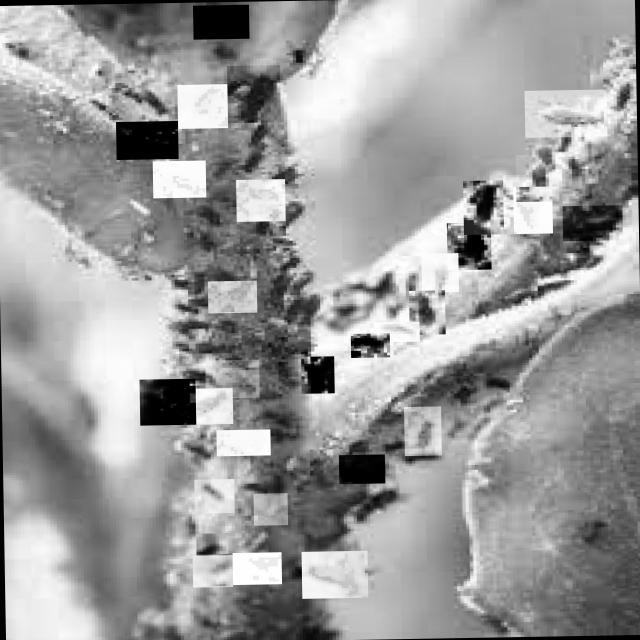aphid: (524, 89, 607, 137), (301, 550, 368, 598), (227, 64, 280, 122), (140, 378, 197, 425), (115, 120, 178, 160), (176, 84, 228, 128), (462, 180, 503, 234), (236, 178, 286, 222), (562, 204, 623, 240), (204, 359, 260, 398), (446, 222, 491, 270), (515, 154, 559, 202), (152, 160, 206, 198), (192, 4, 250, 39), (179, 388, 233, 424), (512, 186, 552, 234), (404, 406, 442, 456), (207, 280, 257, 314), (408, 290, 446, 334), (232, 552, 282, 584), (421, 252, 458, 292), (193, 478, 234, 514), (309, 449, 343, 492), (216, 429, 270, 456), (339, 454, 385, 484), (192, 555, 233, 588), (300, 356, 334, 394), (253, 492, 288, 526), (196, 533, 228, 566), (350, 332, 390, 358), (373, 322, 419, 342)
